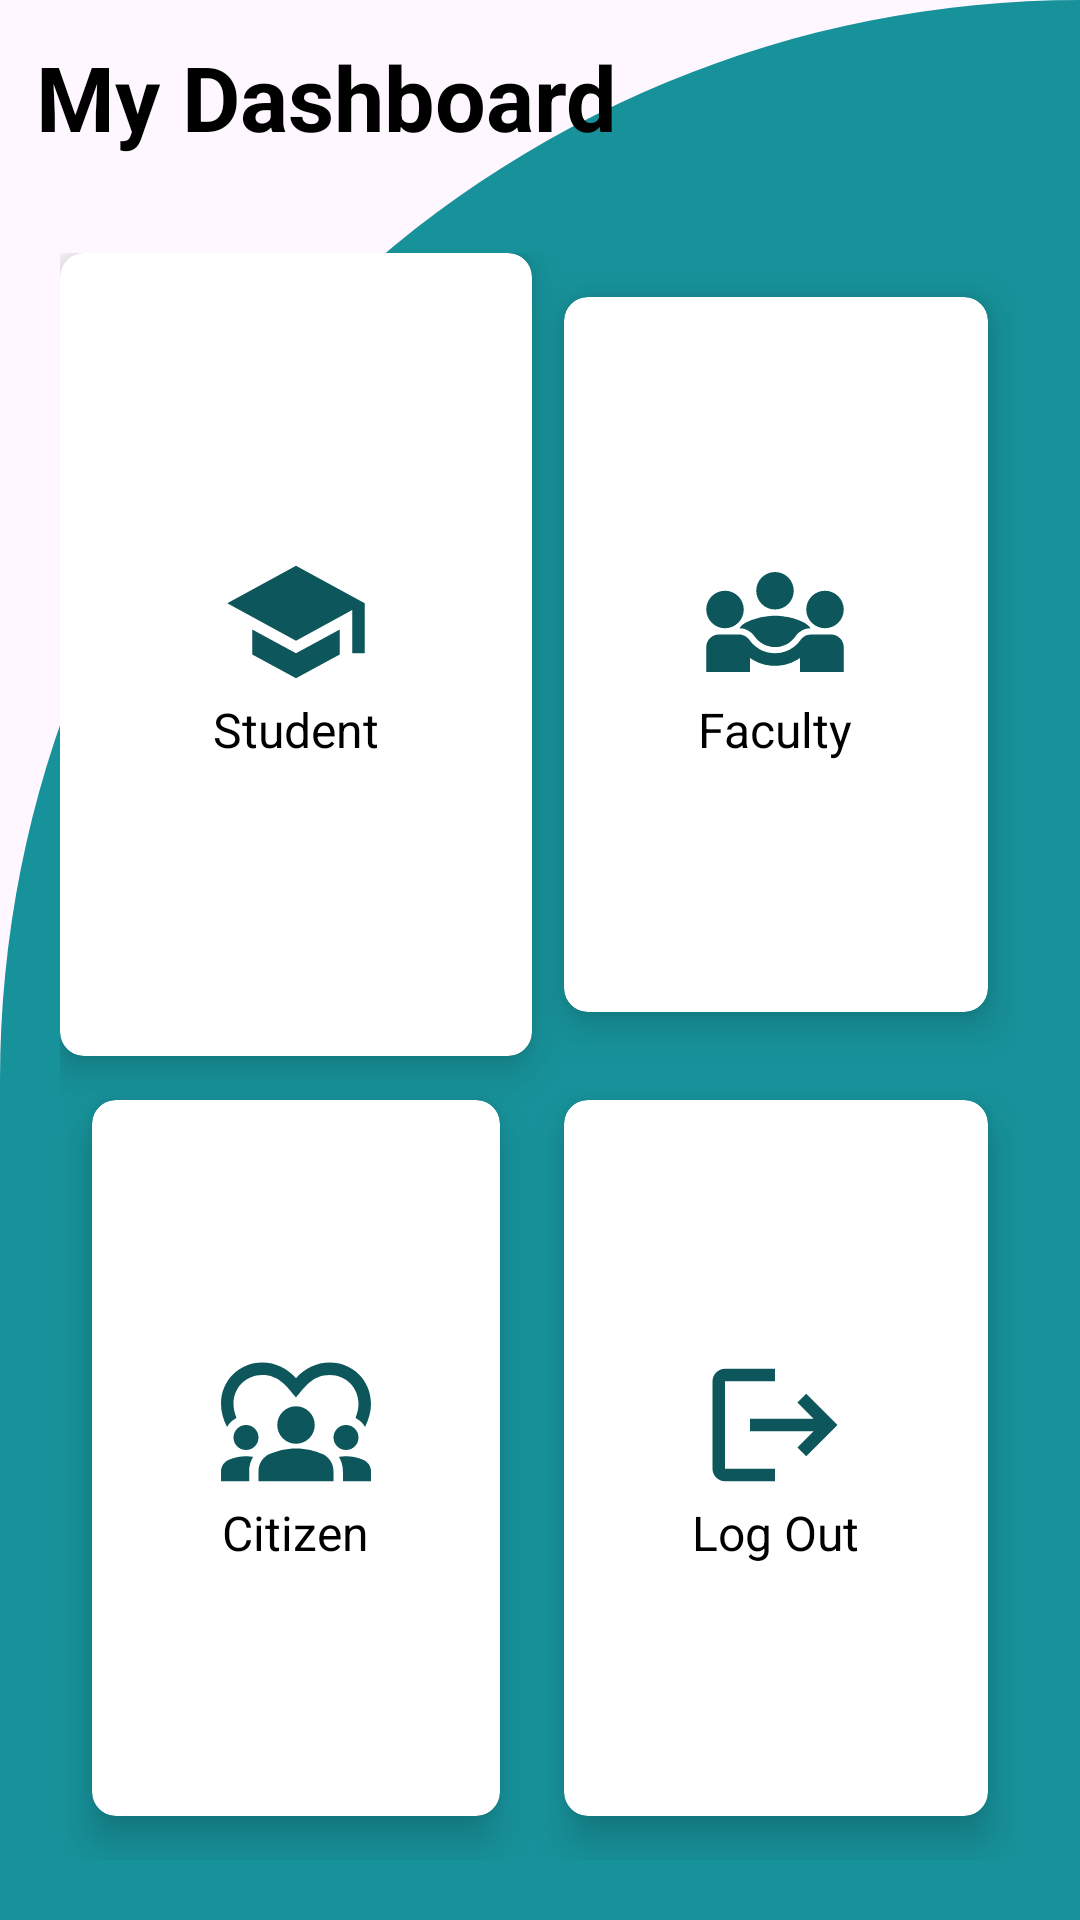

Icon bounding boxes for this 1080x1920 phone screenshot, format (x1, y1, x2, y2):
school: (227, 566, 365, 678)
